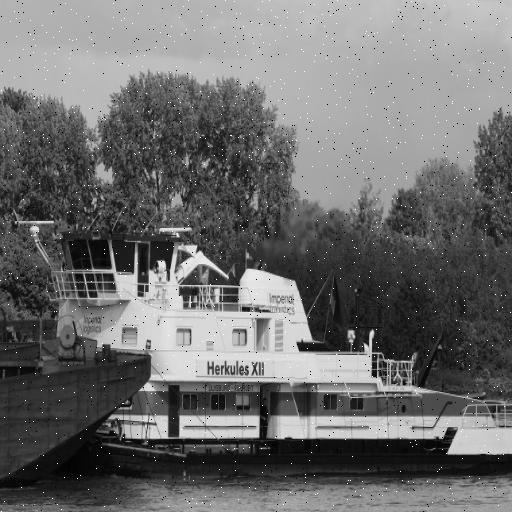tugboat: (13, 210, 512, 488)
